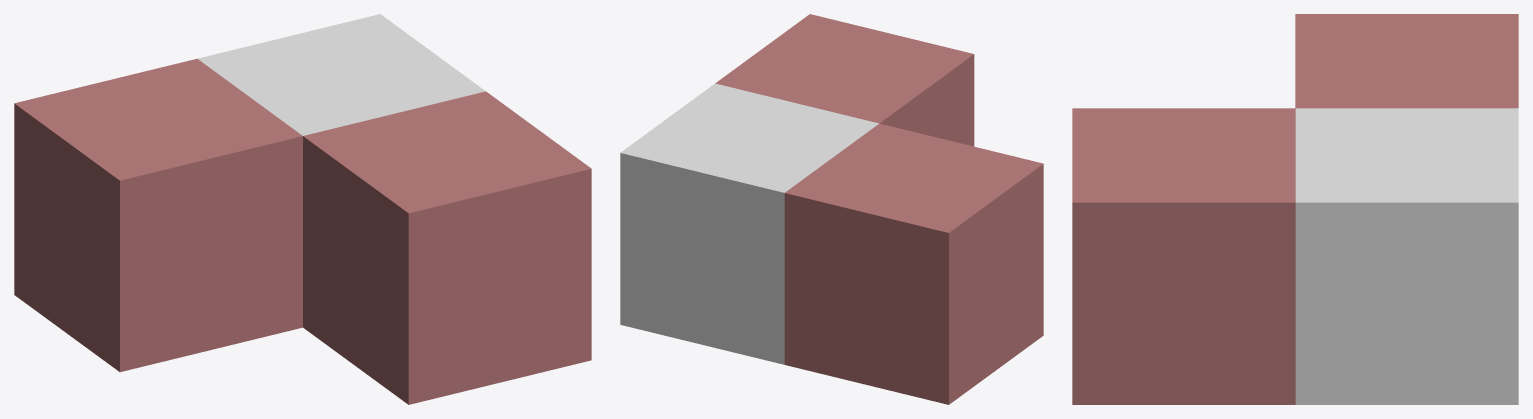
Rendered from piece7.fbx.
3 views of the same model, side by side, from view 1: azimuth 30°, elevation 25°; view 2: azimuth 150°, elevation 25°; view 3: azimuth 270°, elevation 25° (orthographic). The views are drawn at different scales.
Parts seen in each view (by area): view 1: Shape_IndexedFaceSet.002; view 2: Shape_IndexedFaceSet.002; view 3: Shape_IndexedFaceSet.002.
Part boxes in pixels (left/top/right/bottom): Shape_IndexedFaceSet.002: left=14, top=14, right=591, bottom=404; Shape_IndexedFaceSet.002: left=620, top=14, right=1043, bottom=404; Shape_IndexedFaceSet.002: left=1072, top=14, right=1518, bottom=404.
Size of the model in its own units: 200 by 100 by 200.
